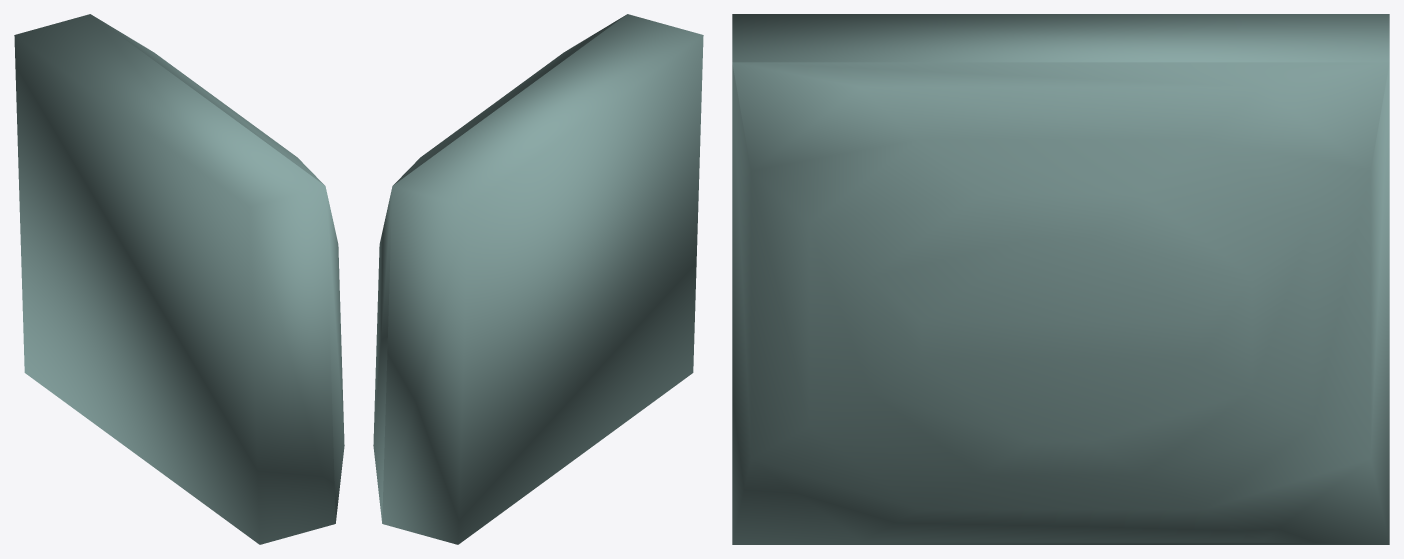
The model's file is TVScreen.glb.
3 views of the same model, side by side, from view 1: azimuth 30°, elevation 25°; view 2: azimuth 150°, elevation 25°; view 3: azimuth 270°, elevation 25° (orthographic). The views are drawn at different scales.
Visible parts, largest first — view 1: Screen; view 2: Screen; view 3: Screen.
Boxes of the visible parts, x1,y1,x2,y2 form: Screen: (14,14,344,544); Screen: (373,14,703,544); Screen: (732,14,1389,544).
Bounding box in the file's own units: 0.3841 × 0.8991 × 1.12.
